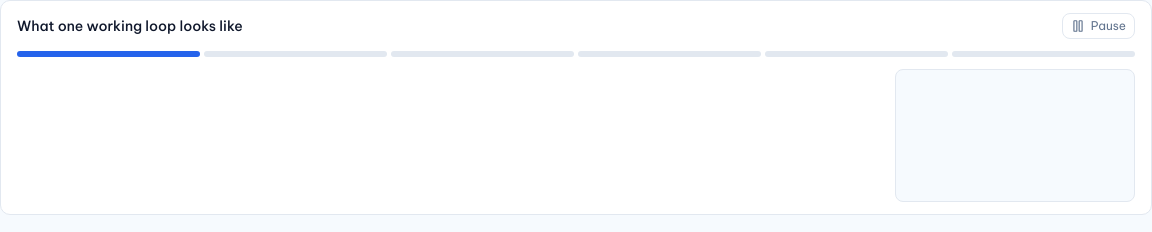
Scenario: ResearchFlowAnimation › stays put after Pause is pressed
The width and height of the screenshot is (1152, 232).
Click the button with aria-label "Pause the walkthrough" at (1098, 26), box [1062,13,1135,39]
Wait 12000 ms
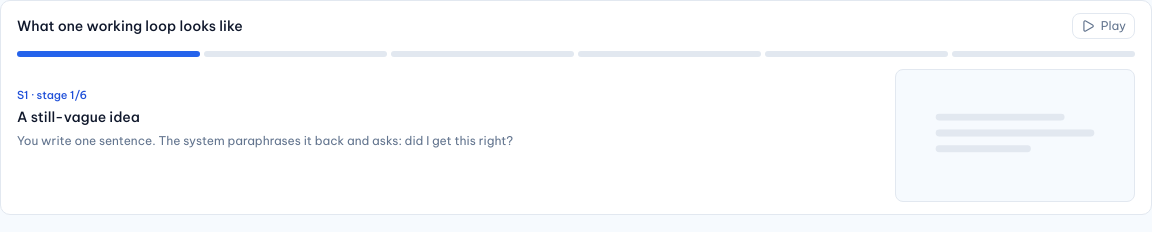
Check: the text "A still-vague idea" is shown, box [17,108,140,126]
Check: the button with aria-label "Play the walkthrough" is shown, box [1072,13,1135,39]
